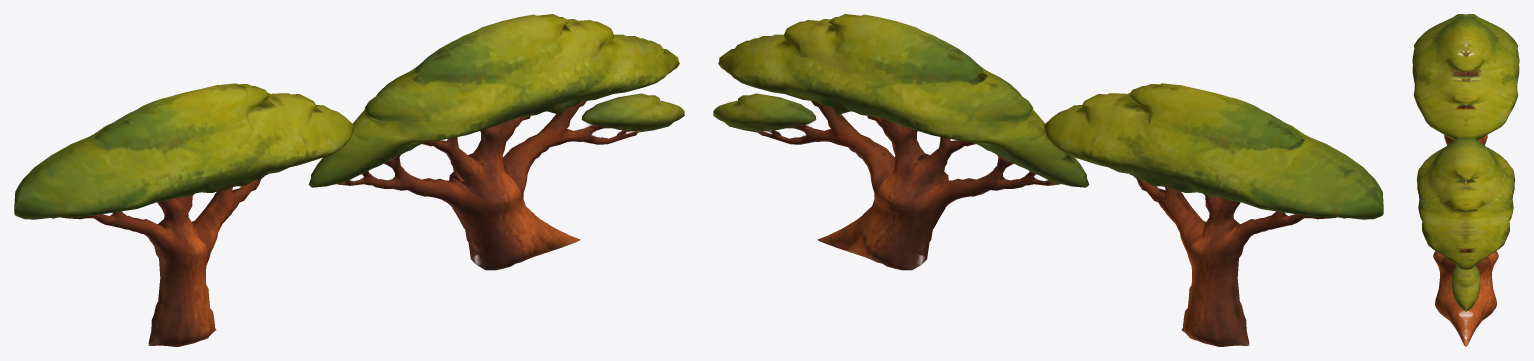
Rendered from 02_acacia_trees_r00_c01.glb.
3 renders of one model, left to right at view 1: azimuth 30°, elevation 25°; view 2: azimuth 150°, elevation 25°; view 3: azimuth 270°, elevation 25°, orthographic. The views are drawn at different scales.
Parts seen in each view (by area): view 1: 02_acacia_trees_r00_c01; view 2: 02_acacia_trees_r00_c01; view 3: 02_acacia_trees_r00_c01.
Part boxes in pixels (box(x1,y1,x2,y2)): 02_acacia_trees_r00_c01: box(14, 14, 684, 346); 02_acacia_trees_r00_c01: box(713, 14, 1383, 346); 02_acacia_trees_r00_c01: box(1412, 14, 1519, 346).
Size of the model in its own units: 10.54 by 3.64 by 2.
1 material, 1 textured.
